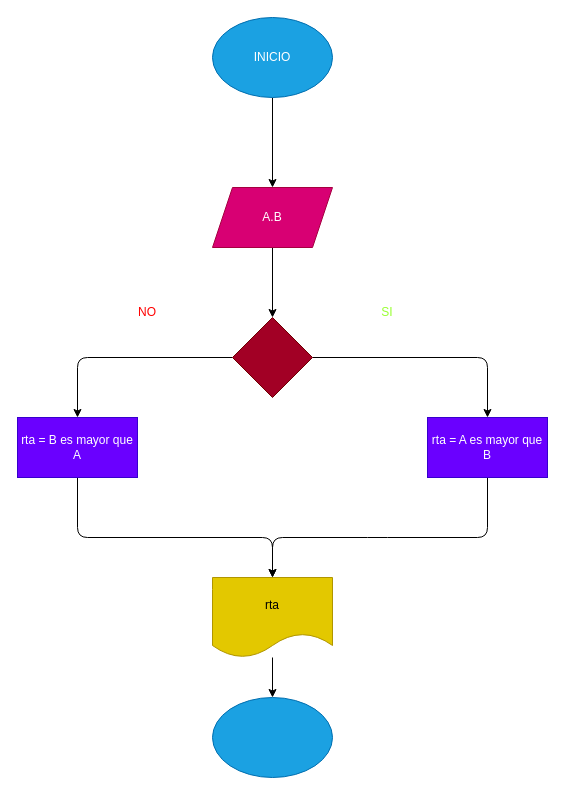
This 565x795 diagram has some shape labels left out. Here are the shapes that lost their labels. From the top down, the centre of each, then its label:
At [272,357]: "A>B".
At [272,737]: "FIN".
